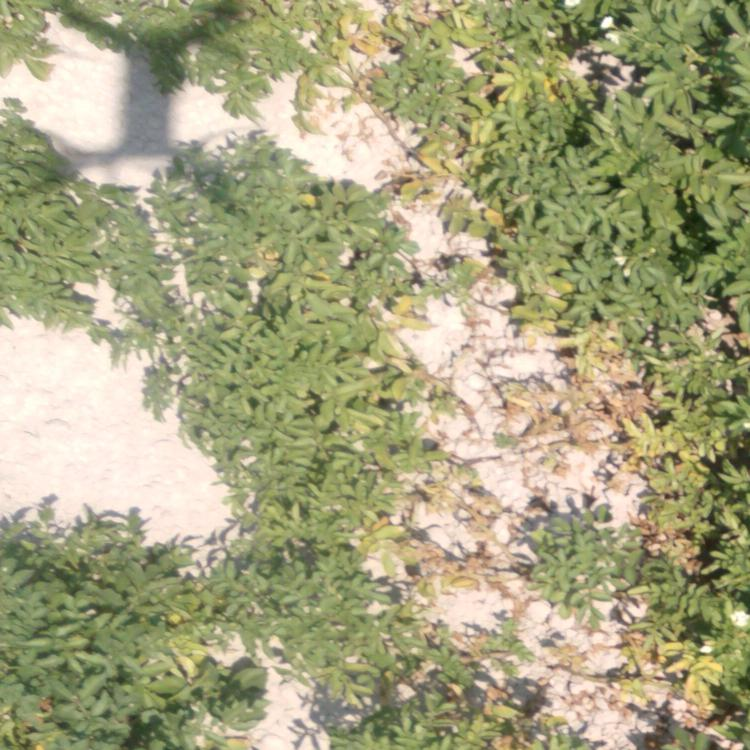healthy: (5, 517, 256, 747), (164, 145, 314, 499), (596, 1, 736, 308), (273, 507, 375, 672), (1, 116, 63, 313), (76, 186, 155, 325), (8, 1, 137, 60)
stressed: (608, 323, 750, 552), (338, 175, 433, 499), (404, 1, 565, 186), (596, 577, 745, 750), (138, 1, 406, 92), (448, 197, 586, 330), (323, 681, 588, 746), (391, 528, 473, 671), (506, 348, 609, 447)
